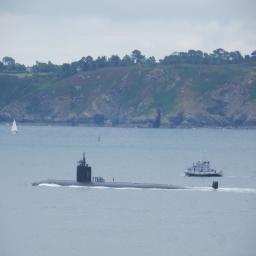submarine: (32, 158, 220, 193)
